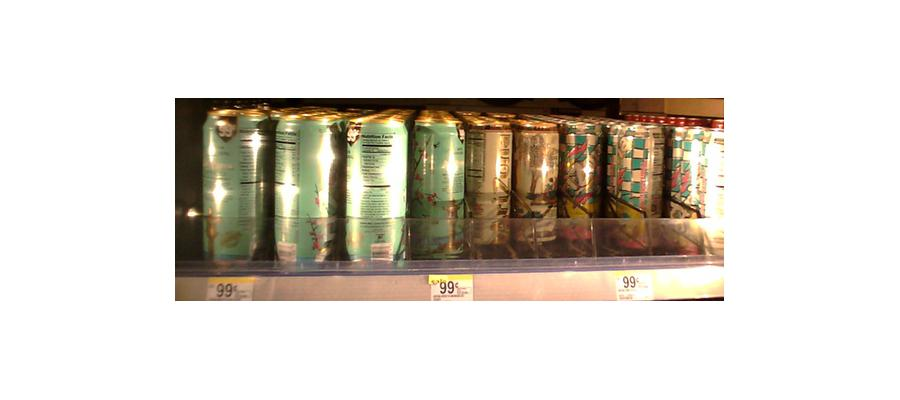bottle: (197, 107, 271, 267), (273, 111, 341, 266), (343, 118, 406, 267), (411, 111, 466, 260), (608, 122, 663, 254), (509, 119, 557, 253), (469, 117, 511, 253), (560, 121, 601, 256), (672, 124, 711, 246)
